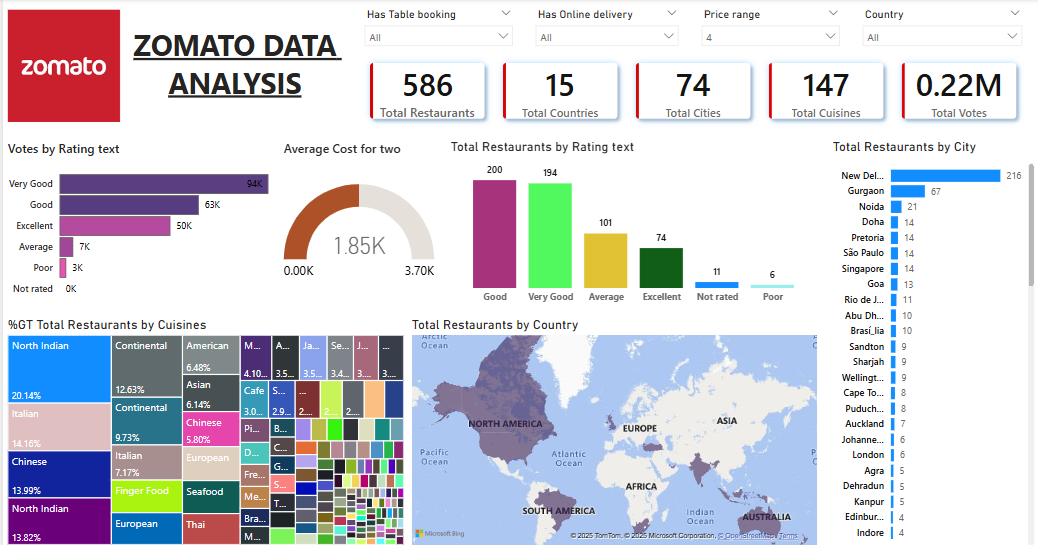

What the dashboard file says about the page in this screenshot:
{"tool":"powerbi","page":{"name":"Page 1","canvas":[1355,720],"ordinal":0},"visuals":[{"type":"slicer","fields":{"Values":["Country Master.Country"]},"box":[1115.7,7.1,228.6,55.7],"z":0},{"type":"slicer","fields":{"Values":["KPIs.Price range"]},"box":[904.3,7.1,201.4,55.7],"z":1000},{"type":"slicer","fields":{"Values":["KPIs.Has Online delivery"]},"box":[687.1,7.1,207.1,55.7],"z":2000},{"type":"slicer","fields":{"Values":["KPIs.Has Table booking"]},"box":[462.9,7.1,214.3,55.7],"z":3000},{"type":"cardVisual","fields":{"Data":["Zomato Sales.Total Restaurants","Country Master.Total Countries","Zomato Sales.Total Cities","Zomato Sales.Total Cuisines","Country Master.Total Votes"]},"box":[462.9,67.1,881.4,107.1],"z":4000},{"type":"barChart","fields":{"Category":["Zomato Sales.City"],"Y":["Zomato Sales.Total Restaurants"]},"box":[1081.4,182.9,273.6,537.1],"z":5000},{"type":"treemap","fields":{"Group":["Zomato Sales.Cuisines"],"Values":["Zomato Sales.Total Restaurants"]},"box":[1.5,416.4,528.4,303],"z":6000},{"type":"filledMap","fields":{"Category":["Country Master.Country"]},"box":[529.9,416.4,540.3,303],"z":7000},{"type":"columnChart","fields":{"Y":["Zomato Sales.Total Restaurants"],"Category":["KPIs.Rating text"]},"box":[580.6,183.6,489.6,225.4],"z":8000},{"type":"clusteredBarChart","title":"Votes by Rating text","fields":{"Category":["KPIs.Rating text"],"Y":["Sum(KPIs.Votes)"]},"box":[1.4,184.3,351.4,224.3],"z":9000},{"type":"gauge","title":"Average Cost for two","fields":{"Y":["Avg(KPIs.Average Cost for two)"]},"box":[362.9,184.3,207.1,224.3],"z":10000},{"type":"image","box":[1.4,0,157.1,174.3],"z":11000},{"type":"textbox","box":[158.6,30,290,114.3],"z":12000}]}

Visuals, with their boxes in screenshot pixels (x1, y1, x2, y2), scaled from the page's 1355x720 canvas onto the 1038x545 screenshot:
slicer - Country Master.Country: crop(855, 5, 1030, 48)
slicer - KPIs.Price range: crop(693, 5, 847, 48)
slicer - KPIs.Has Online delivery: crop(526, 5, 685, 48)
slicer - KPIs.Has Table booking: crop(355, 5, 519, 48)
cardVisual - Zomato Sales.Total Restaurants x Country Master.Total Countries: crop(355, 51, 1030, 132)
barChart - Zomato Sales.City x Zomato Sales.Total Restaurants: crop(828, 138, 1037, 544)
treemap - Zomato Sales.Cuisines x Zomato Sales.Total Restaurants: crop(1, 315, 406, 544)
filledMap - Country Master.Country: crop(406, 315, 820, 544)
columnChart - Zomato Sales.Total Restaurants x KPIs.Rating text: crop(445, 139, 820, 310)
"Votes by Rating text" clusteredBarChart: crop(1, 140, 270, 309)
"Average Cost for two" gauge: crop(278, 140, 437, 309)
image: crop(1, 0, 121, 132)
textbox: crop(121, 23, 344, 109)
